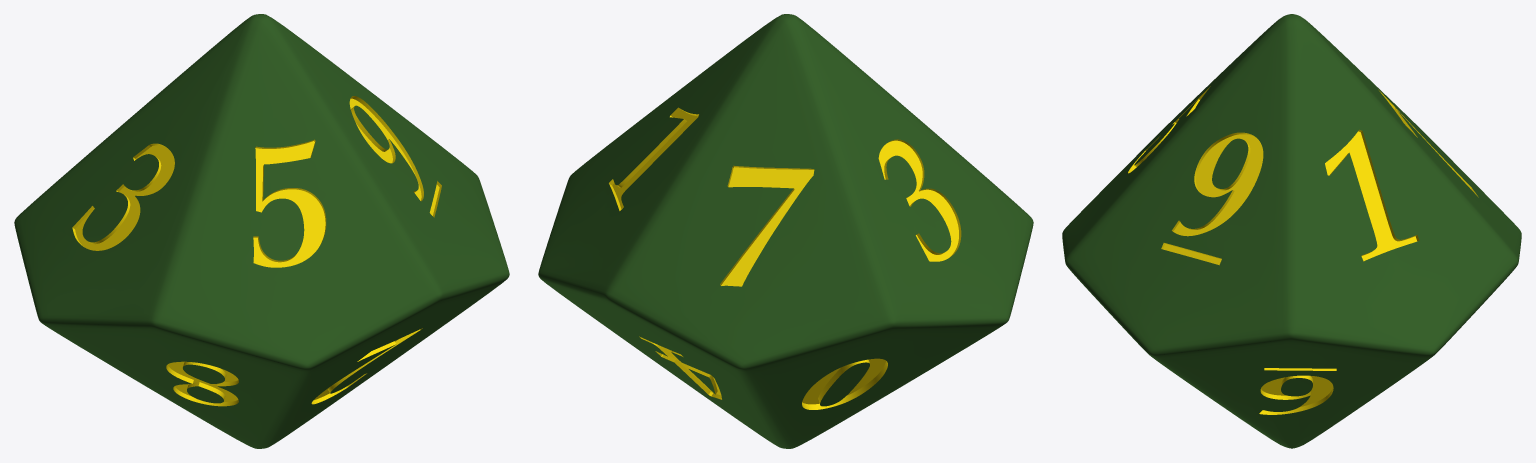
3 renders of one model, left to right at view 1: azimuth 30°, elevation 25°; view 2: azimuth 150°, elevation 25°; view 3: azimuth 270°, elevation 25°, orthographic.
Parts seen in each view (by area): view 1: D10; view 2: D10; view 3: D10.
Part boxes in pixels (left/top/right/bottom): D10: left=14, top=14, right=509, bottom=448; D10: left=538, top=14, right=1033, bottom=448; D10: left=1062, top=14, right=1521, bottom=448.
Bounding box in the file's own units: 0.3649 × 0.3431 × 0.3327.
